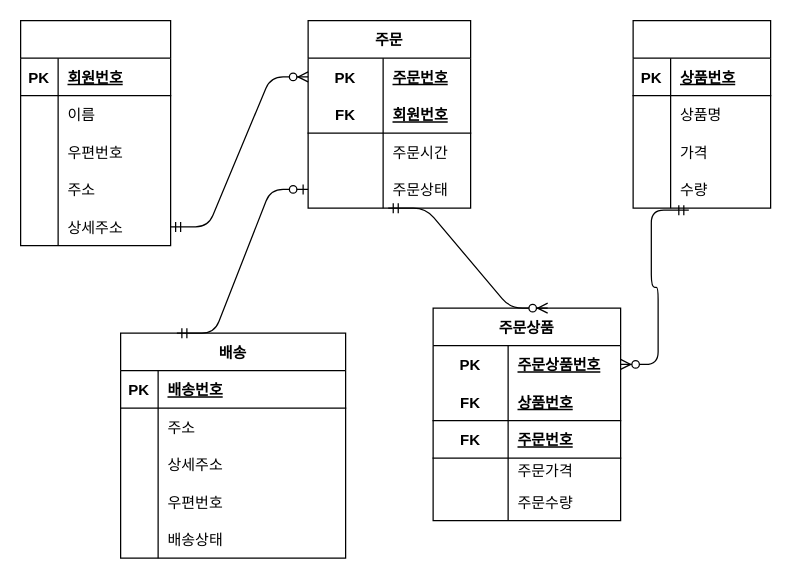
The diagram is 791 pixels wide and 579 high, and some of its shapes have lost their labels. The box of each missing label's shape, as (x1, y1, x2, y2) in pixels:
상품: (632, 19, 771, 208)
회원: (19, 19, 171, 246)
